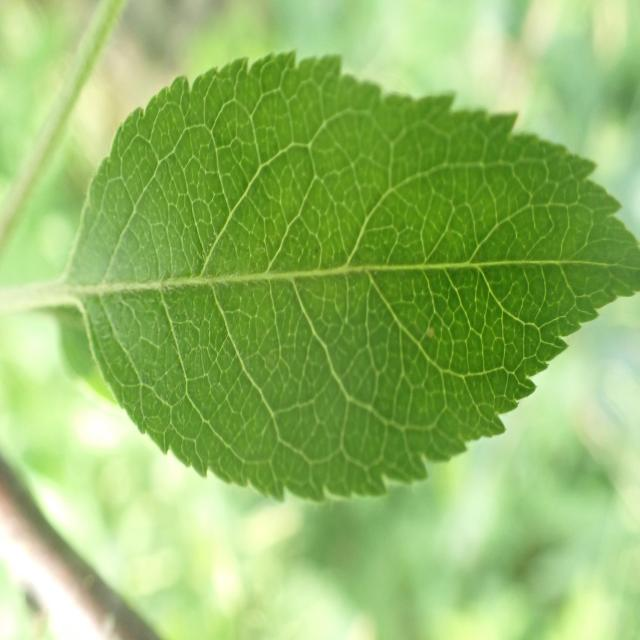healthy: (61, 48, 638, 506)
